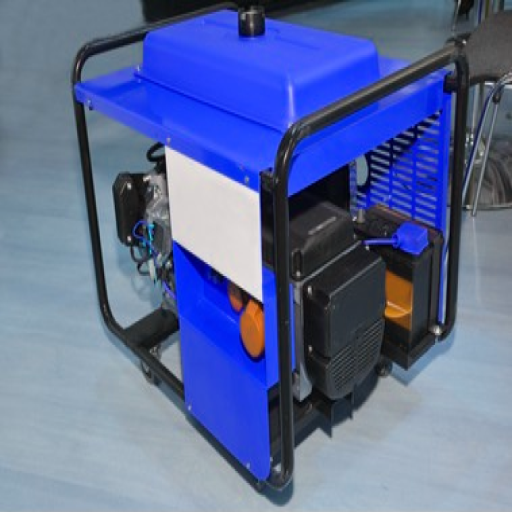portable_generator: (71, 1, 469, 491)
